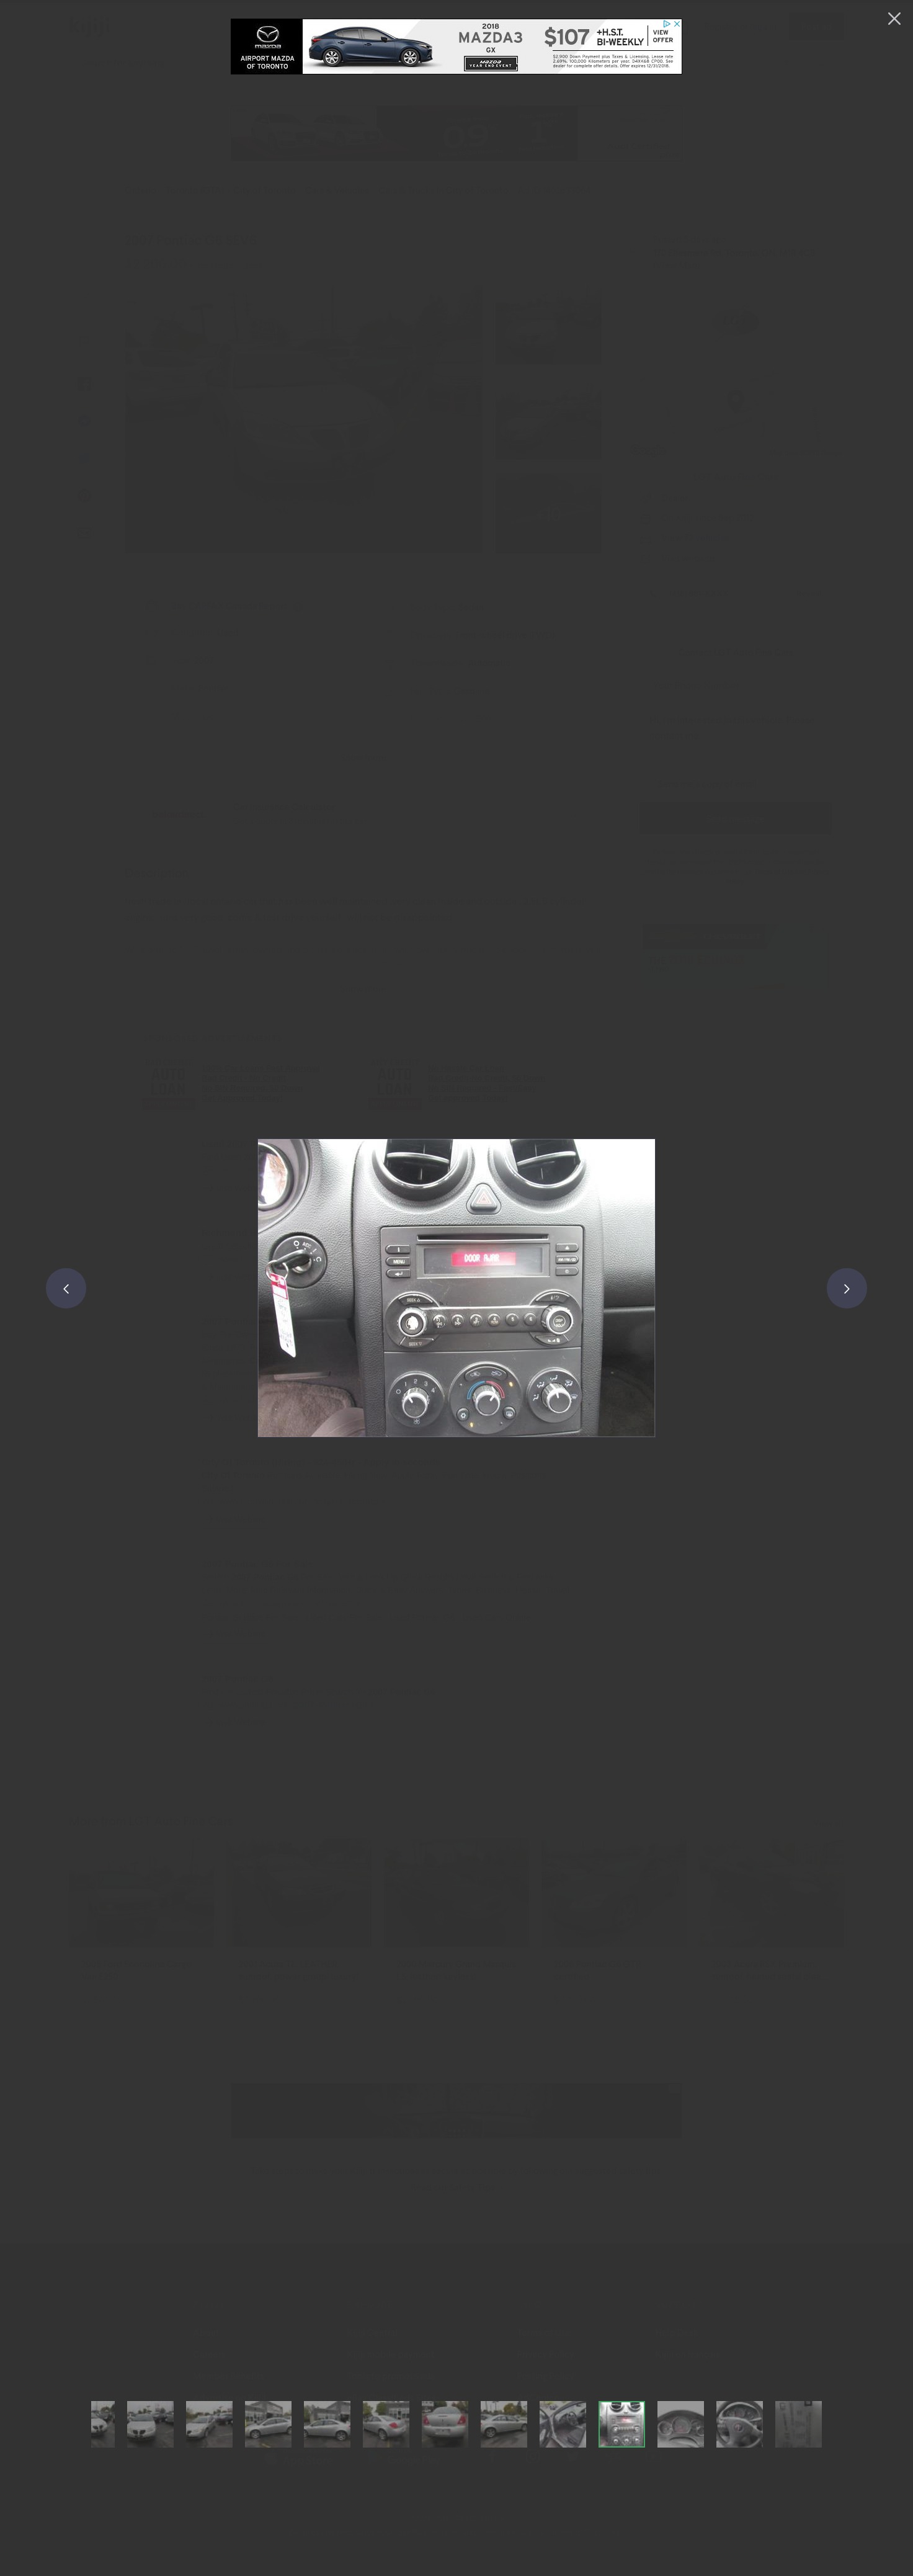car: (826, 1267, 869, 1313)
